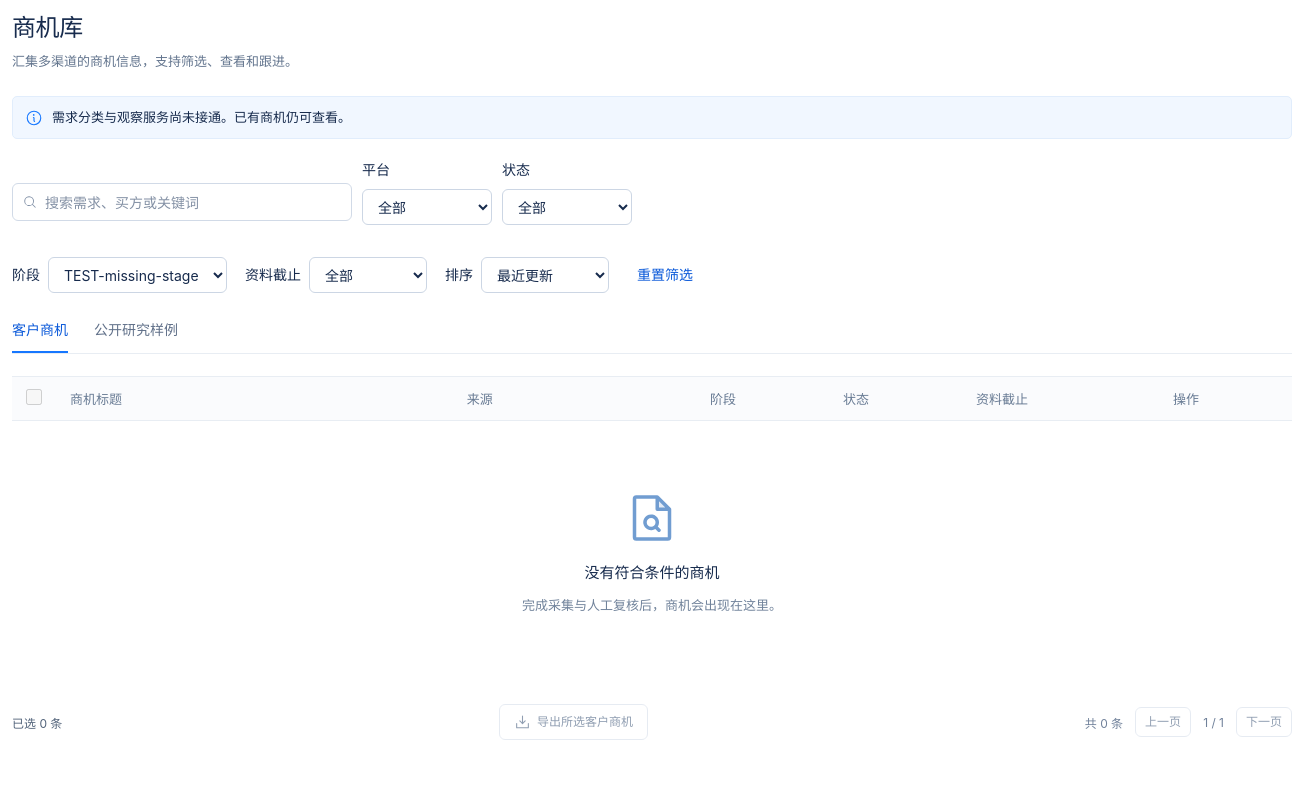
Test: P10 library columns and interactive filters › shows no-match feedback without hiding a saved stage filter
Check: the heading "没有符合条件的商机" is shown, box [584,561,720,585]
Check: the dropdown named "筛选阶段" shows "TEST-missing-stage", box [48,257,227,293]
Click the button "重置筛选": (665, 275) [627,257,703,293]
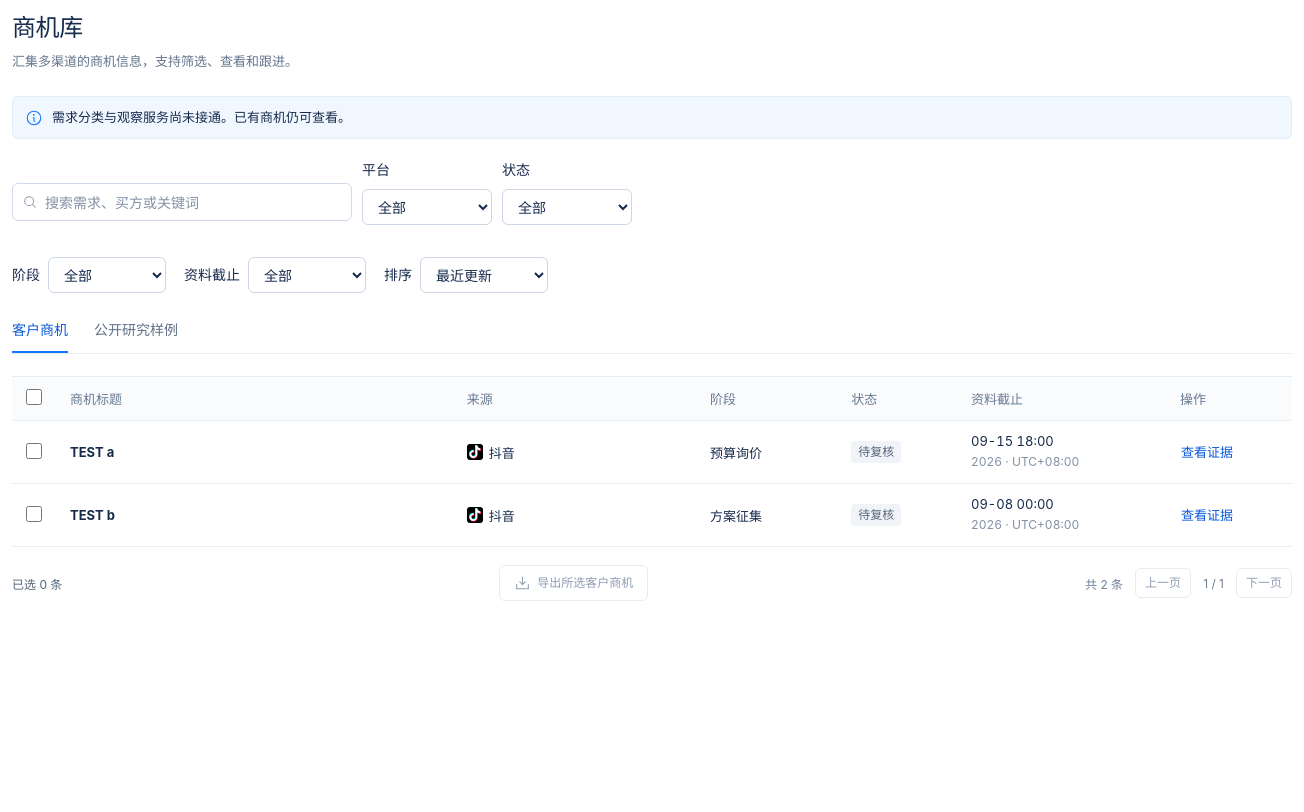
Check: the text "TEST a" is shown, box [70,444,114,460]
